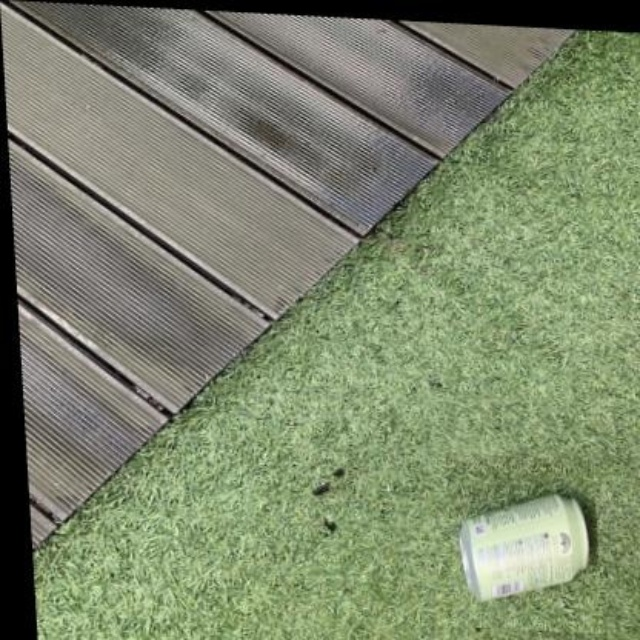trash: (460, 494, 588, 600)
